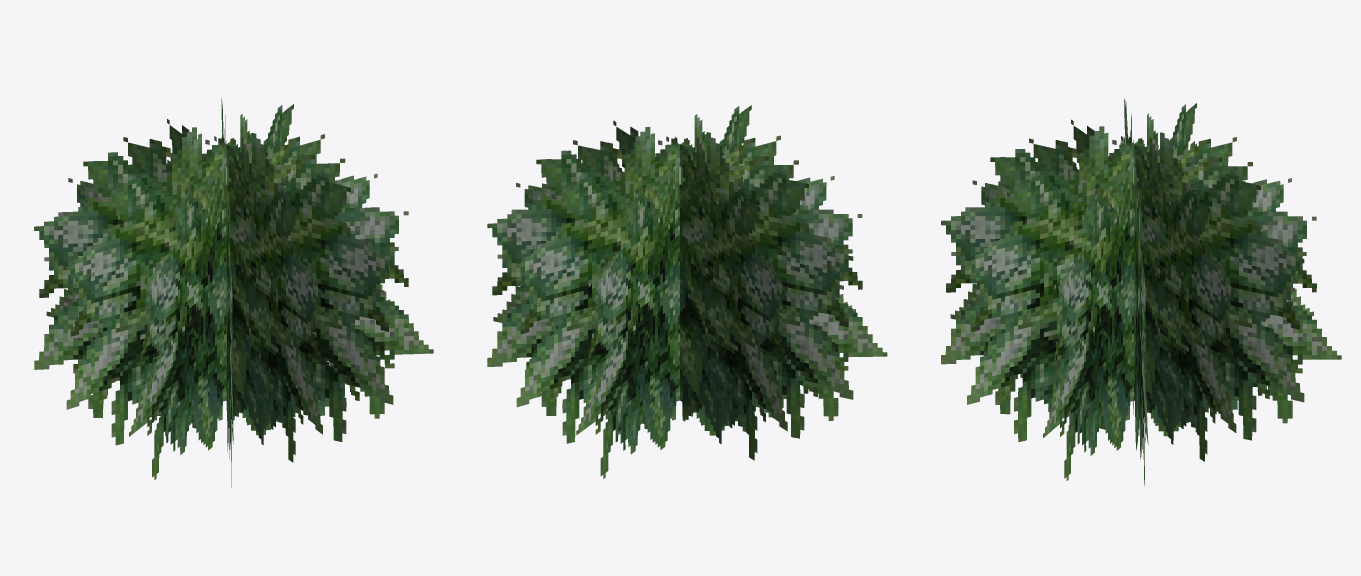
File: Bush test.fbx
The picture shows the model from 3 angles, left to right: view 1: azimuth 30°, elevation 25°; view 2: azimuth 150°, elevation 25°; view 3: azimuth 270°, elevation 25°; orthographic projection.
Visible parts, largest first — view 1: plant.001, plant.002; view 2: plant.001, plant.002; view 3: plant.001, plant.002.
Boxes of the visible parts, x1,y1,x2,y2 form: plant.001: (34,104,433,479); plant.002: (46,98,393,487); plant.001: (487,105,887,478); plant.002: (493,132,855,443); plant.001: (941,103,1341,480); plant.002: (950,98,1313,486).
Bounding box in the file's own units: 104 × 100 × 105.
1 material, 1 textured.
